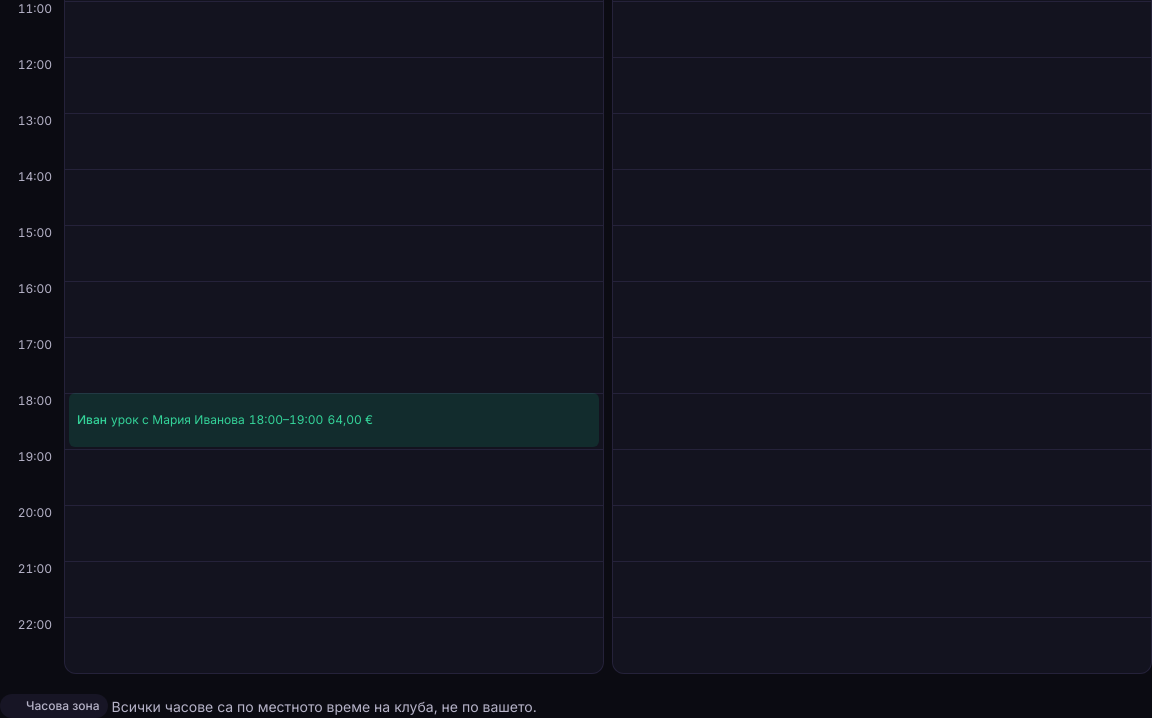
Test case: DayGrid on the primitives › a lesson still ahead (#549): the desk opens it, sees who teaches, and can cancel it › confirmed: one cancel is sent for that booking, as the club’s, and the sheet closes
(page scrolled)
What coordinates should you click on to do the following:
click the button with aria-label "Иван, 18:00–19:00"
I would click on:
 (334, 420)
Its box is [69,393,599,447].
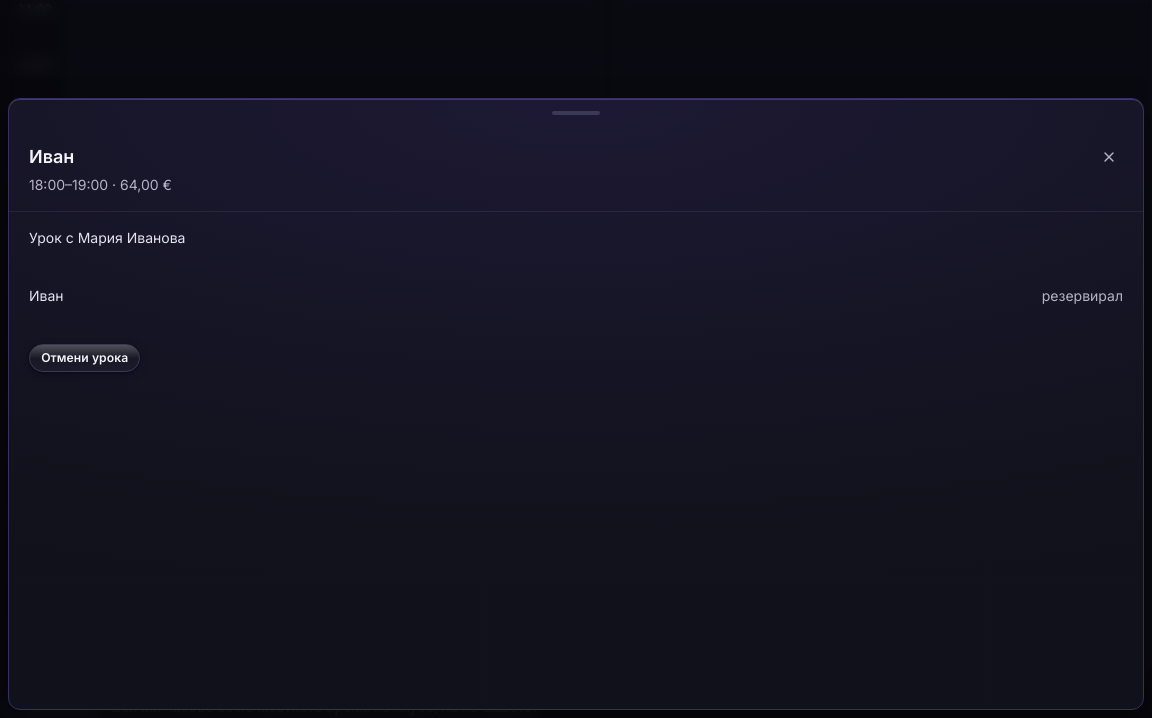
What coordinates should you click on to do the following:
click the button "Отмени урока"
I would click on:
 (85, 358)
Its box is [29,344,140,372].
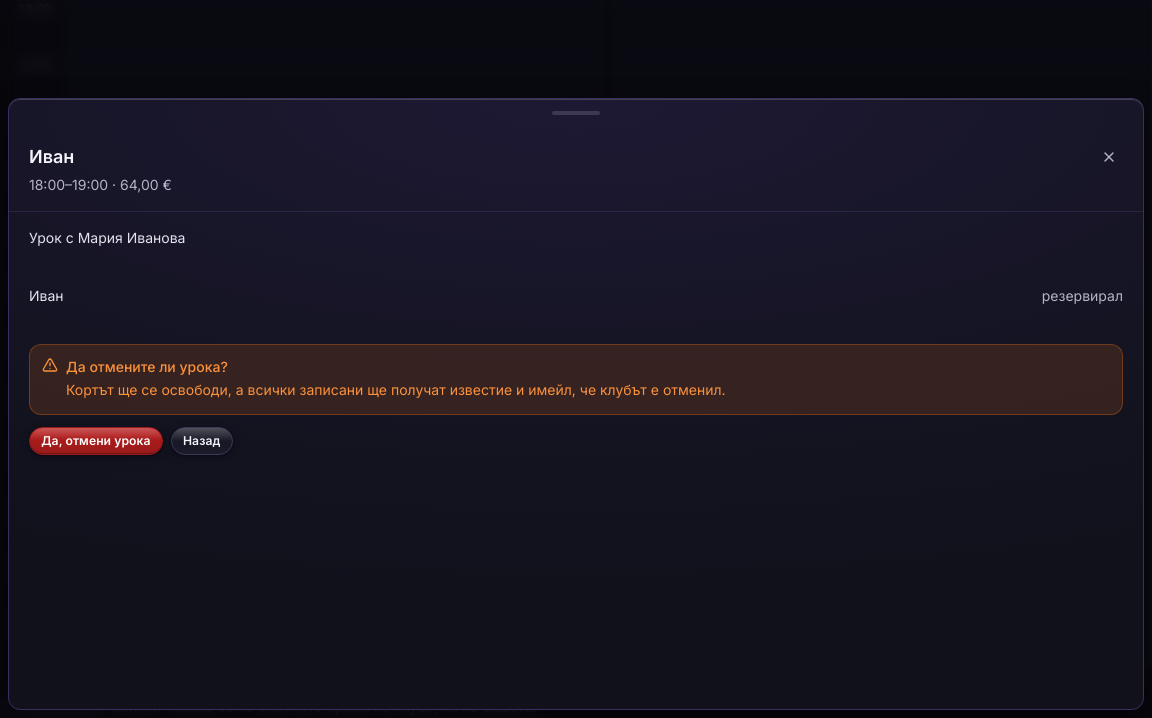
What coordinates should you click on to do the following:
click the button "Да, отмени урока"
I would click on:
 (96, 441)
Its box is [29,427,163,455].
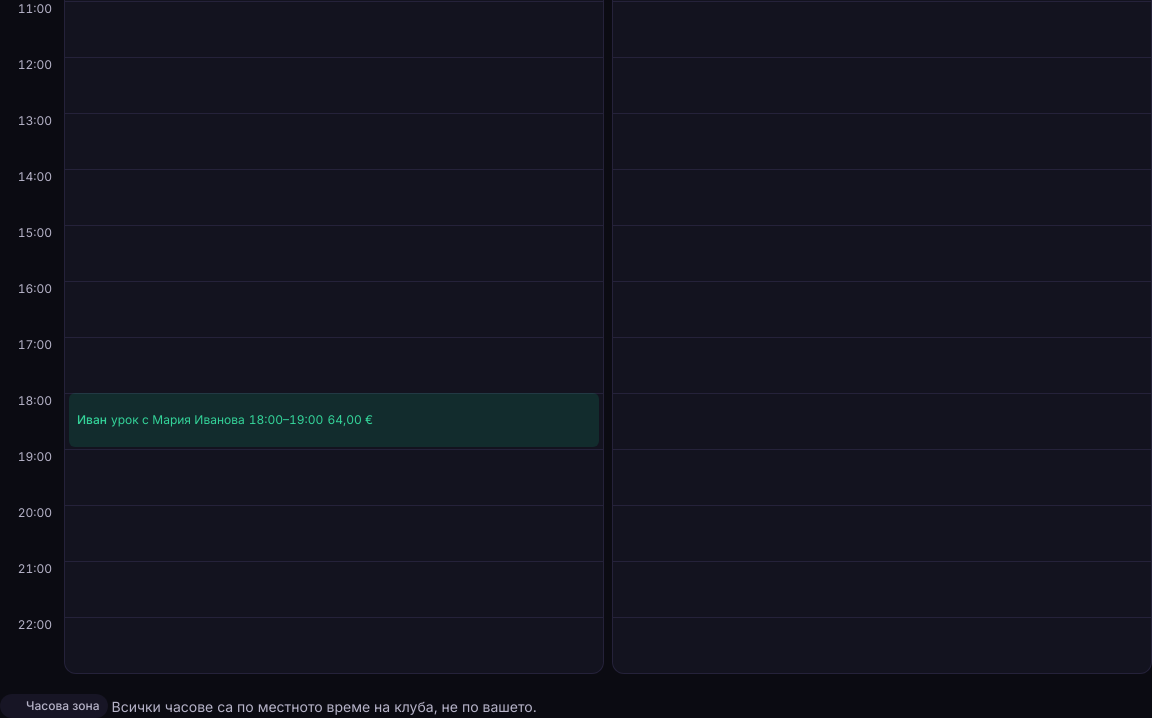
Now the dialog is gone
